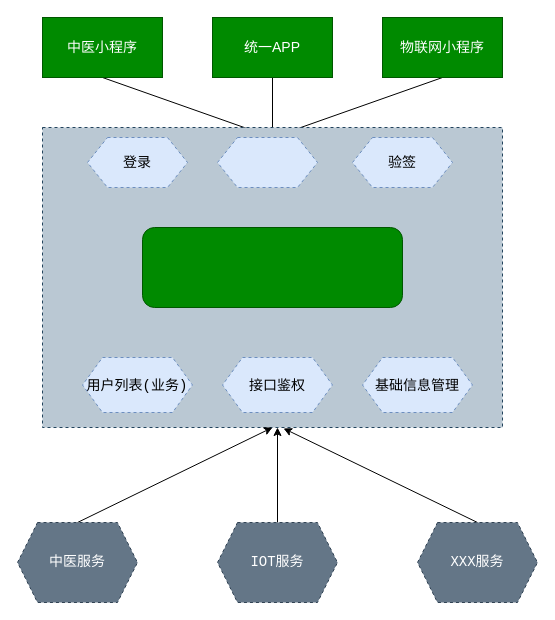
Some shapes in this 555 by 620 pixel diagram are drawn without their labels. The centre of each missing label's shape, as x and y in pixels:
"注册" belongs at (x=267, y=162).
"统一用户中心" belongs at (x=272, y=267).
